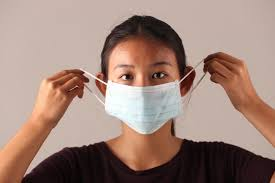surgical: (100, 77, 190, 136)
